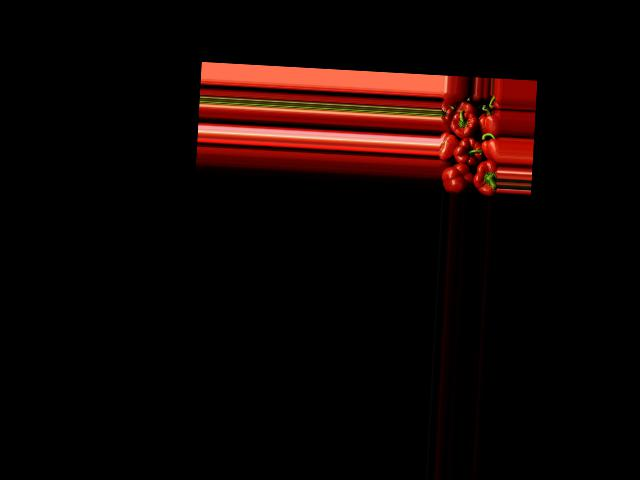bell_pepper: (439, 132, 456, 161)
